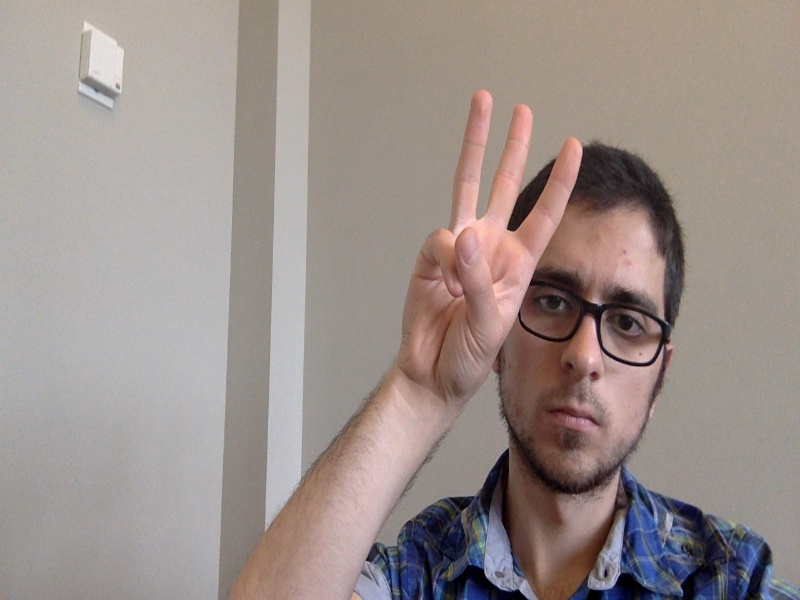3-hand: (396, 90, 583, 403)
